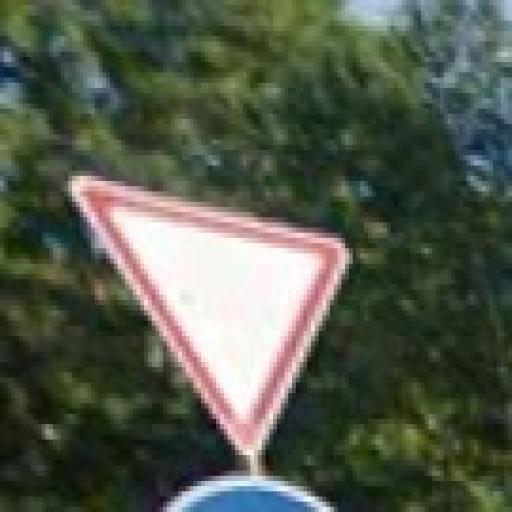traffic_sign: (66, 167, 354, 456)
